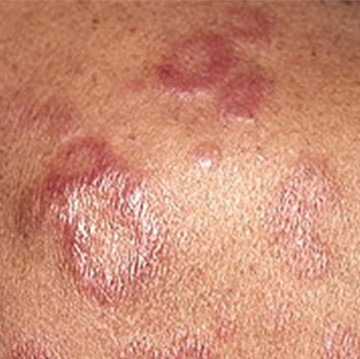Leprosy: (25, 151, 173, 299), (145, 0, 285, 127), (0, 313, 359, 358), (265, 158, 351, 281), (187, 138, 230, 173)
